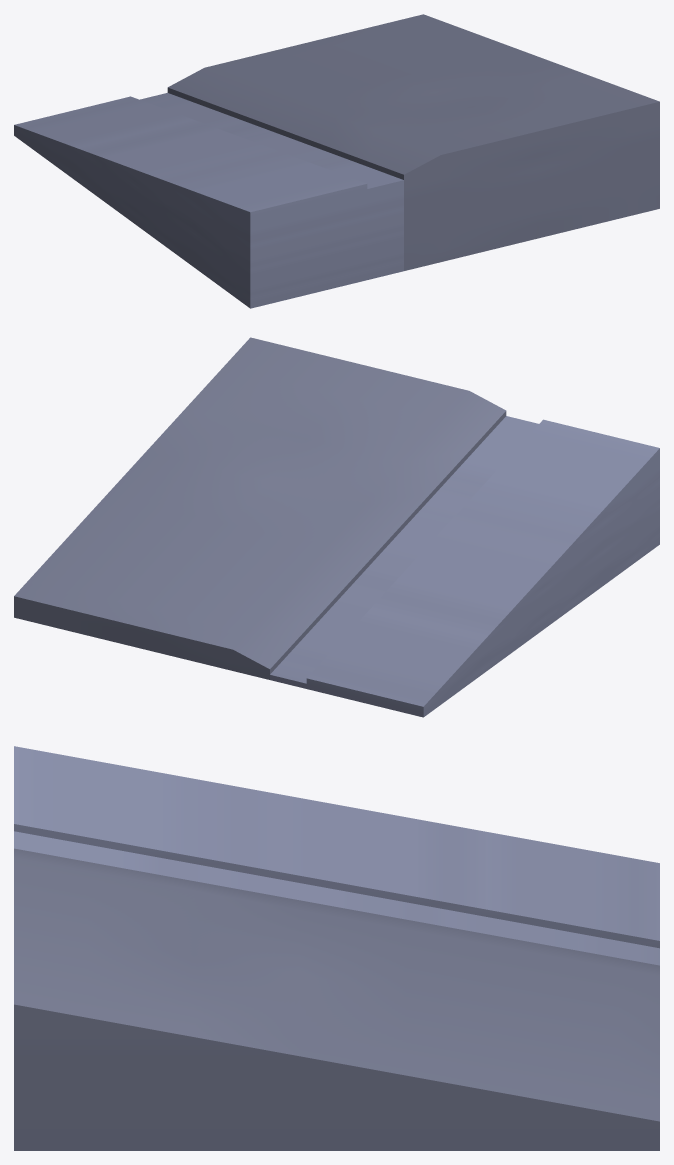
The model's file is roadEdgeSlope.fbx.
3 renders of one model, top to bottom at view 1: azimuth 30°, elevation 25°; view 2: azimuth 150°, elevation 25°; view 3: azimuth 270°, elevation 25°, orthographic. The views are drawn at different scales.
Parts seen in each view (by area): view 1: roadEdgeSlope; view 2: roadEdgeSlope; view 3: roadEdgeSlope.
Part boxes in pixels (box(x1,y1,x2,y2)): roadEdgeSlope: box(14, 14, 659, 308); roadEdgeSlope: box(14, 337, 659, 717); roadEdgeSlope: box(14, 746, 659, 1150).
Size of the model in its own units: 1 by 1 by 0.25.
